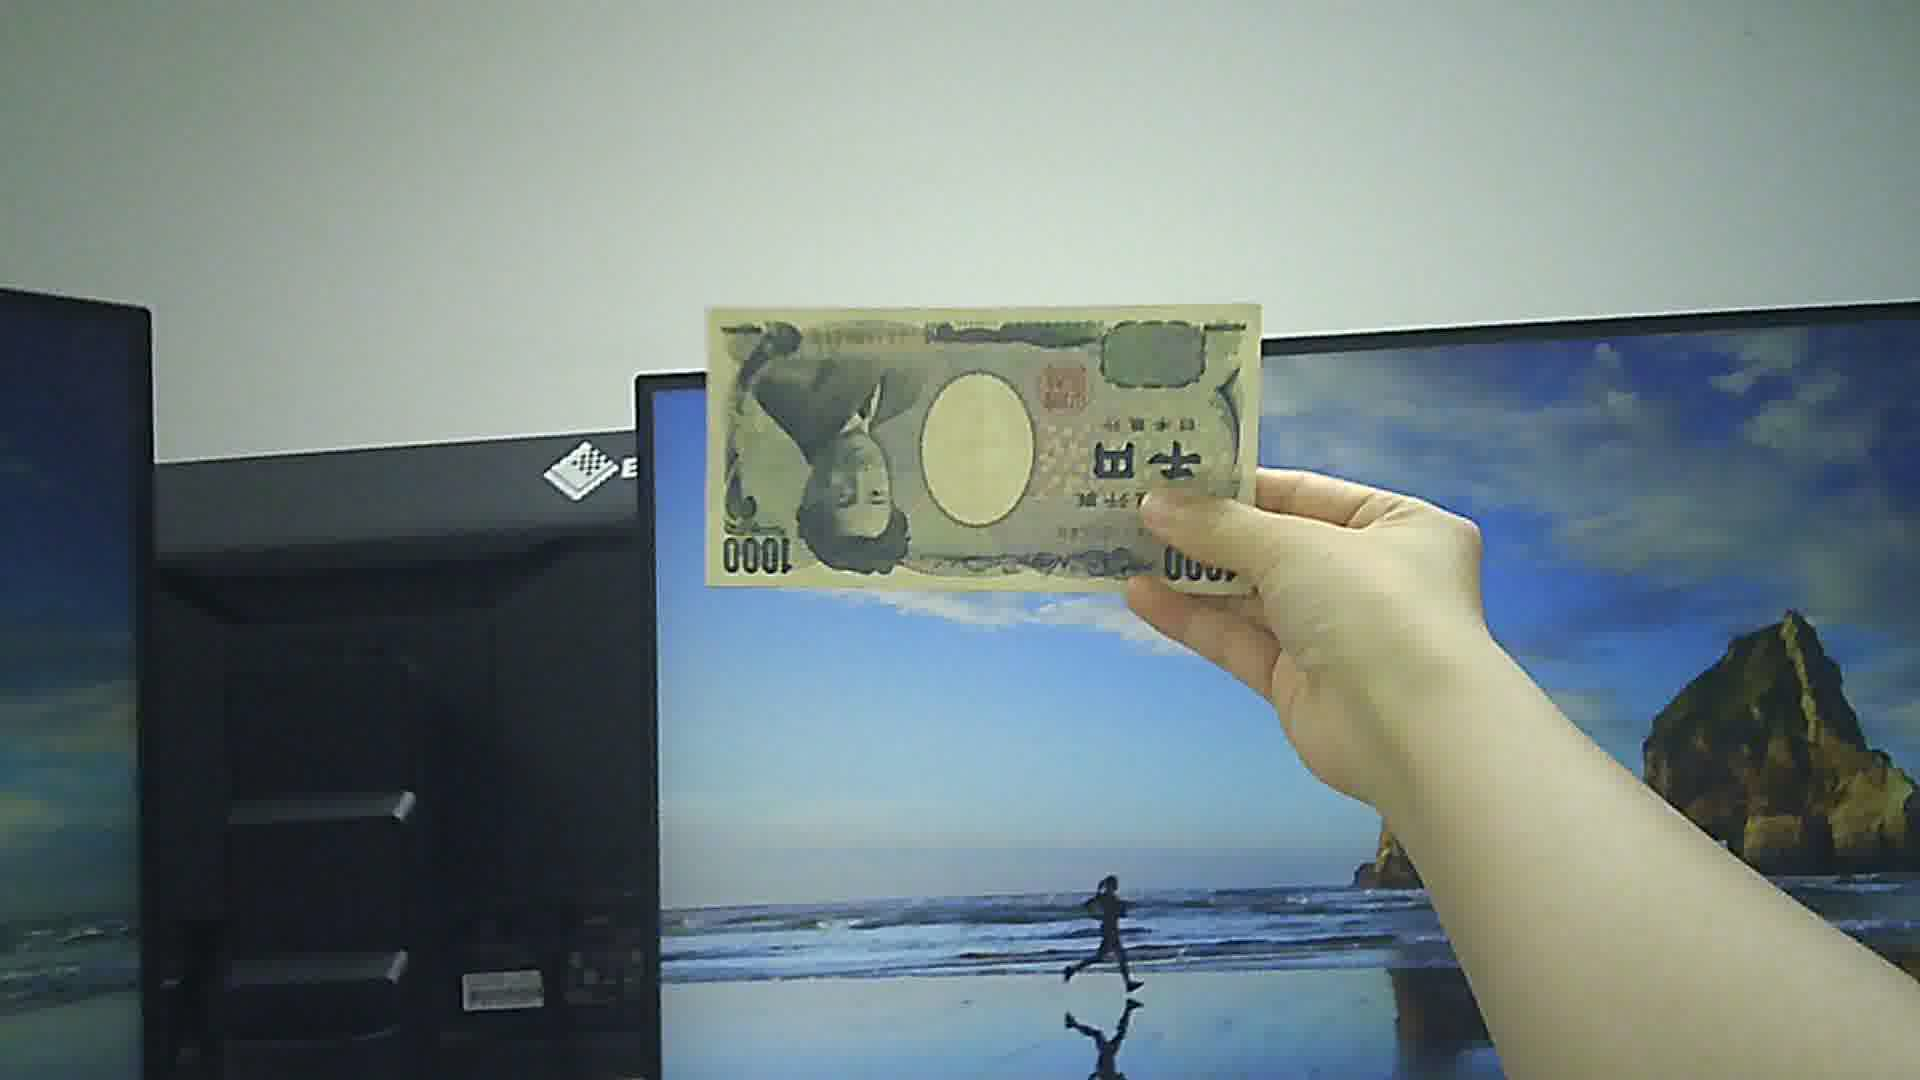1,000 Yen: (688, 287, 1284, 628)
